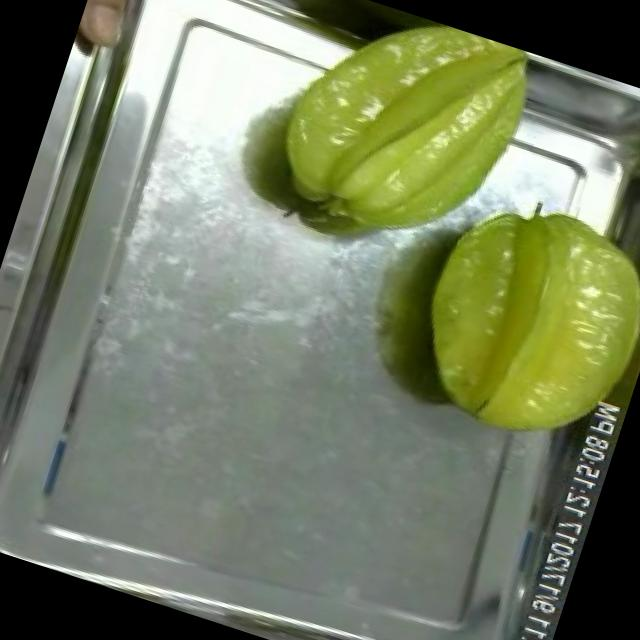fruit: (253, 0, 558, 280), (378, 164, 640, 477), (73, 0, 166, 63)
